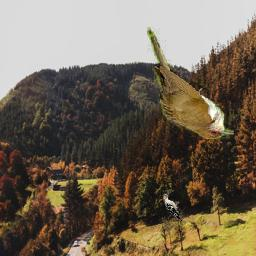Cuckoo: (148, 28, 235, 141)
Woodpecker: (163, 191, 184, 222)
